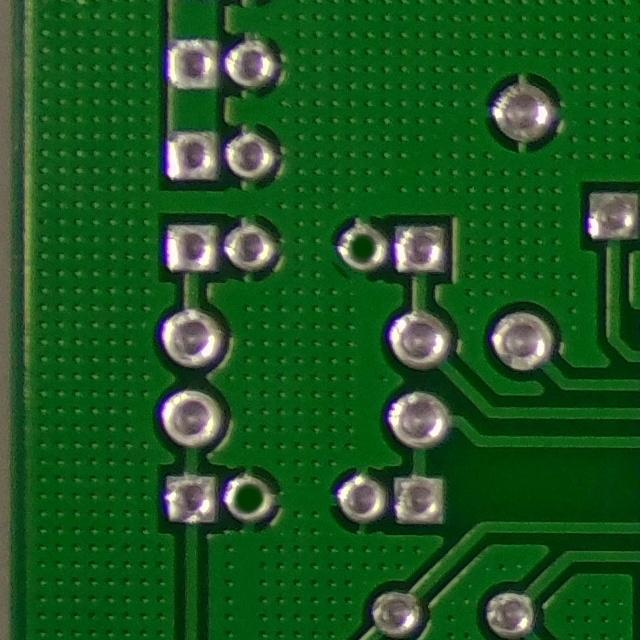missing_hole: (217, 469, 277, 527), (337, 214, 386, 274)
